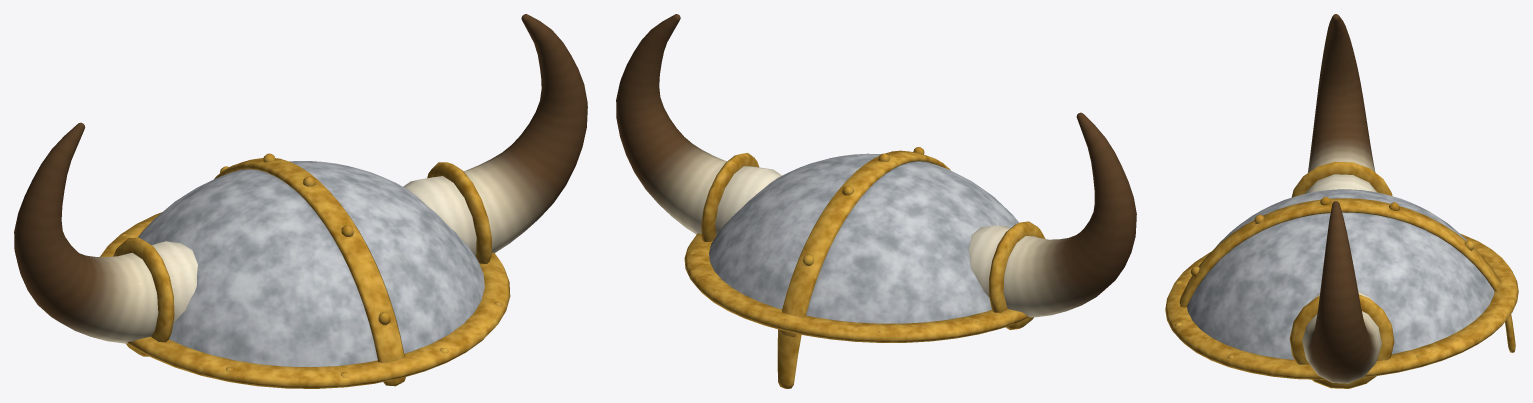
File: viking.glb
The picture shows the model from 3 angles, left to right: view 1: azimuth 30°, elevation 25°; view 2: azimuth 150°, elevation 25°; view 3: azimuth 270°, elevation 25°; orthographic projection. The views are drawn at different scales.
Visible parts, largest first — view 1: Hat; view 2: Hat; view 3: Hat.
Boxes of the visible parts, left/top/right/bottom form: Hat: left=14, top=14, right=587, bottom=388; Hat: left=616, top=14, right=1136, bottom=388; Hat: left=1165, top=14, right=1518, bottom=388.
Bounding box in the file's own units: 1.03 × 0.4929 × 0.6473.
1 material, 1 textured.
